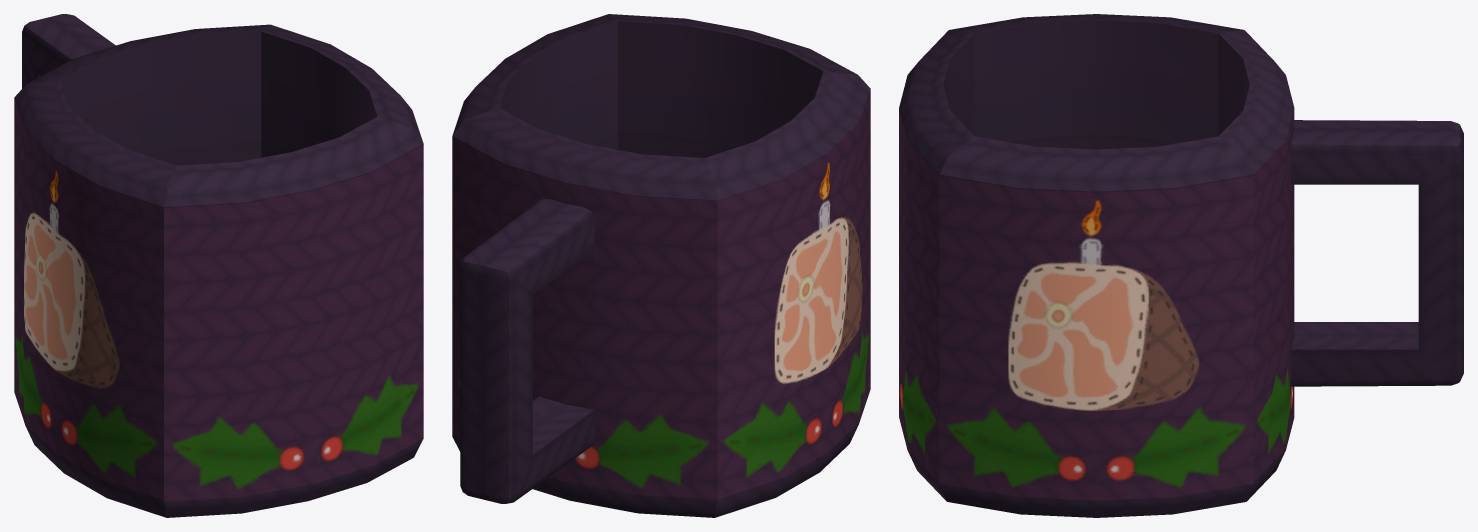
File: ugly ham mug.glb
The picture shows the model from 3 angles, left to right: view 1: azimuth 30°, elevation 25°; view 2: azimuth 150°, elevation 25°; view 3: azimuth 270°, elevation 25°; orthographic projection. The views are drawn at different scales.
Visible parts, largest first — view 1: RecCenter_Cafe_Mug_LOD0; view 2: RecCenter_Cafe_Mug_LOD0; view 3: RecCenter_Cafe_Mug_LOD0.
Boxes of the visible parts, left/top/right/bottom form: RecCenter_Cafe_Mug_LOD0: left=14, top=14, right=423, bottom=517; RecCenter_Cafe_Mug_LOD0: left=452, top=14, right=870, bottom=517; RecCenter_Cafe_Mug_LOD0: left=899, top=14, right=1463, bottom=517.
Bounding box in the file's own units: 0.1211 × 0.1225 × 0.173.
1 material, 1 textured.
